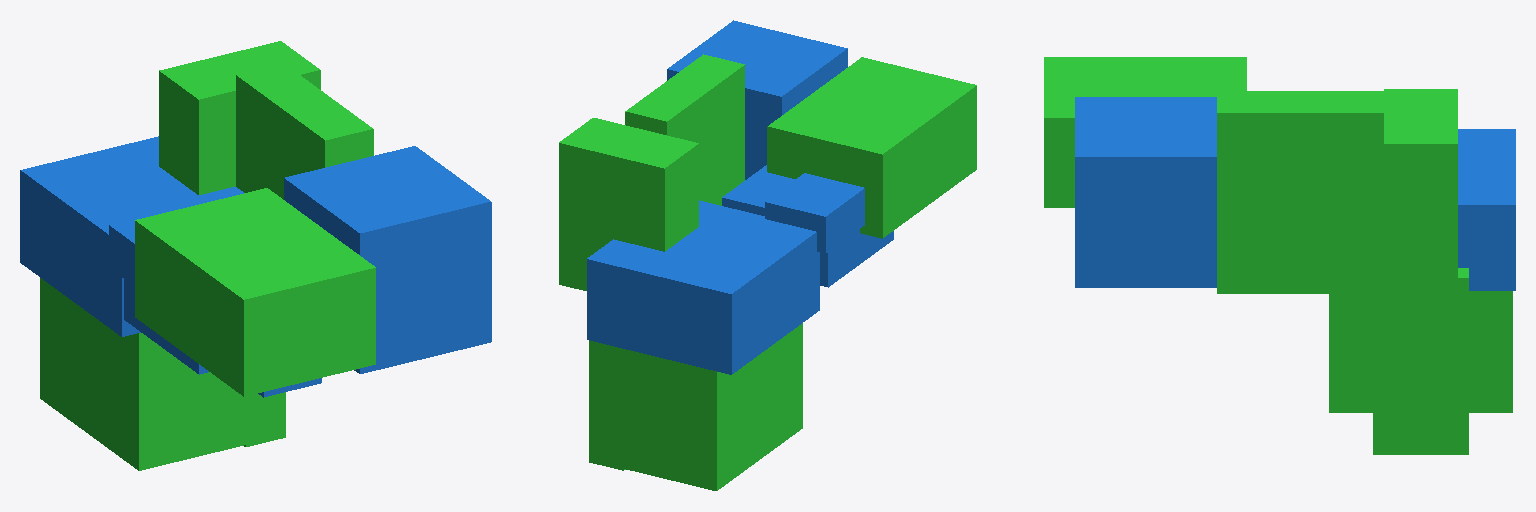
The robot description file, URDF, robot "robot":
<robot name = "robot">
    <link name="Link0">
        <inertial>
            <origin xyz="0 0 2" rpy="0 0 0"/>
            <mass value="0.6160407407778503" />
            <inertia ixx="100" ixy="0" ixz="0" iyy="100" iyz="0" izz="100" />
        </inertial>
        <visual>
            <origin xyz="0 0 2" rpy="0 0 0"/>
            <geometry>
                <box size="0.8521836538927108 1.213567087188342 0.5956792132960255" />
            </geometry>
            <material name="Sensor">
                <color rgba="0.239 0.875 0.282 1.0"/>
            </material>
        </visual>
        <collision>
            <origin xyz="0 0 2" rpy="0 0 0"/>
            <geometry>
                <box size="0.8521836538927108 1.213567087188342 0.5956792132960255" />
            </geometry>
        </collision>
    </link>
    <joint name="Link0_Link1" type="revolute">
       <parent link="Link0"/>
       <child  link="Link1"/>
       <origin rpy="0 0 0" xyz="0.4260918269463554 0 2" />
       <axis xyz="1 0 0"/>
       <limit effort="0.0" lower="-3.14159" upper="3.14159" velocity="0.0"/>
    </joint>
    <link name="Link1">
        <inertial>
            <origin xyz="0.42281254906747484 0 0" rpy="0 0 0"/>
            <mass value="0.6215092512536174" />
            <inertia ixx="100" ixy="0" ixz="0" iyy="100" iyz="0" izz="100" />
        </inertial>
        <visual>
            <origin xyz="0.42281254906747484 0 0" rpy="0 0 0"/>
            <geometry>
                <box size="0.8456250981349497 0.8489852889734197 0.8657042872039488" />
            </geometry>
            <material name="No Sensor">
                <color rgba="0.184 0.553 0.933 1.0"/>
            </material>
        </visual>
        <collision>
            <origin xyz="0.42281254906747484 0 0" rpy="0 0 0"/>
            <geometry>
                <box size="0.8456250981349497 0.8489852889734197 0.8657042872039488" />
            </geometry>
        </collision>
    </link>
    <joint name="Link1_Link2" type="revolute">
       <parent link="Link1"/>
       <child  link="Link2"/>
       <origin rpy="0 0 0" xyz="0.42281254906747484 0.42449264448670987 0.0" />
       <axis xyz="1 0 0"/>
       <limit effort="0.0" lower="-3.14159" upper="3.14159" velocity="0.0"/>
    </joint>
    <link name="Link2">
        <inertial>
            <origin xyz="0.0 0.5001585922873429 0.0" rpy="0 0 0"/>
            <mass value="0.3705765701744302" />
            <inertia ixx="100" ixy="0" ixz="0" iyy="100" iyz="0" izz="100" />
        </inertial>
        <visual>
            <origin xyz="0.0 0.5001585922873429 0.0" rpy="0 0 0"/>
            <geometry>
                <box size="0.3091772071857224 1.0003171845746859 1.1982094981876252" />
            </geometry>
            <material name="Sensor">
                <color rgba="0.239 0.875 0.282 1.0"/>
            </material>
        </visual>
        <collision>
            <origin xyz="0.0 0.5001585922873429 0.0" rpy="0 0 0"/>
            <geometry>
                <box size="0.3091772071857224 1.0003171845746859 1.1982094981876252" />
            </geometry>
        </collision>
    </link>
    <joint name="Link2_Link3" type="revolute">
       <parent link="Link2"/>
       <child  link="Link3"/>
       <origin rpy="0 0 0" xyz="0.0 1.0003171845746859 0.0" />
       <axis xyz="0 0 1"/>
       <limit effort="0.0" lower="-3.14159" upper="3.14159" velocity="0.0"/>
    </joint>
    <link name="Link3">
        <inertial>
            <origin xyz="0.0 0.2212780104775342 0.0" rpy="0 0 0"/>
            <mass value="0.3482805075028929" />
            <inertia ixx="100" ixy="0" ixz="0" iyy="100" iyz="0" izz="100" />
        </inertial>
        <visual>
            <origin xyz="0.0 0.2212780104775342 0.0" rpy="0 0 0"/>
            <geometry>
                <box size="0.7846790571795887 0.4425560209550684 1.0029259149799423" />
            </geometry>
            <material name="Sensor">
                <color rgba="0.239 0.875 0.282 1.0"/>
            </material>
        </visual>
        <collision>
            <origin xyz="0.0 0.2212780104775342 0.0" rpy="0 0 0"/>
            <geometry>
                <box size="0.7846790571795887 0.4425560209550684 1.0029259149799423" />
            </geometry>
        </collision>
    </link>
    <joint name="Link3_Link4" type="revolute">
       <parent link="Link3"/>
       <child  link="Link4"/>
       <origin rpy="0 0 0" xyz="0.0 0.2212780104775342 -0.5014629574899712" />
       <axis xyz="0 0 1"/>
       <limit effort="0.0" lower="-3.14159" upper="3.14159" velocity="0.0"/>
    </joint>
    <link name="Link4">
        <inertial>
            <origin xyz="0.0 0.0 -0.5838031738221966" rpy="0 0 0"/>
            <mass value="0.1737354630515266" />
            <inertia ixx="100" ixy="0" ixz="0" iyy="100" iyz="0" izz="100" />
        </inertial>
        <visual>
            <origin xyz="0.0 0.0 -0.5838031738221966" rpy="0 0 0"/>
            <geometry>
                <box size="0.2573189693278638 0.5782561036507808 1.1676063476443932" />
            </geometry>
            <material name="Sensor">
                <color rgba="0.239 0.875 0.282 1.0"/>
            </material>
        </visual>
        <collision>
            <origin xyz="0.0 0.0 -0.5838031738221966" rpy="0 0 0"/>
            <geometry>
                <box size="0.2573189693278638 0.5782561036507808 1.1676063476443932" />
            </geometry>
        </collision>
    </link>
    <joint name="Link4_Link5" type="revolute">
       <parent link="Link4"/>
       <child  link="Link5"/>
       <origin rpy="0 0 0" xyz="-0.1286594846639319 0.0 -0.5838031738221966" />
       <axis xyz="0 1 0"/>
       <limit effort="0.0" lower="-3.14159" upper="3.14159" velocity="0.0"/>
    </joint>
    <link name="Link5">
        <inertial>
            <origin xyz="-0.4191836664469384 0.0 0.0" rpy="0 0 0"/>
            <mass value="0.7919010315348493" />
            <inertia ixx="100" ixy="0" ixz="0" iyy="100" iyz="0" izz="100" />
        </inertial>
        <visual>
            <origin xyz="-0.4191836664469384 0.0 0.0" rpy="0 0 0"/>
            <geometry>
                <box size="0.8383673328938768 1.1051902839041352 0.8546720523491877" />
            </geometry>
            <material name="Sensor">
                <color rgba="0.239 0.875 0.282 1.0"/>
            </material>
        </visual>
        <collision>
            <origin xyz="-0.4191836664469384 0.0 0.0" rpy="0 0 0"/>
            <geometry>
                <box size="0.8383673328938768 1.1051902839041352 0.8546720523491877" />
            </geometry>
        </collision>
    </link>
    <joint name="Link5_Link6" type="revolute">
       <parent link="Link5"/>
       <child  link="Link6"/>
       <origin rpy="0 0 0" xyz="-0.4191836664469384 0.0 0.4273360261745939" />
       <axis xyz="0 0 1"/>
       <limit effort="0.0" lower="-3.14159" upper="3.14159" velocity="0.0"/>
    </joint>
    <link name="Link6">
        <inertial>
            <origin xyz="0.0 0.0 0.2854931872622266" rpy="0 0 0"/>
            <mass value="0.691726782634707" />
            <inertia ixx="100" ixy="0" ixz="0" iyy="100" iyz="0" izz="100" />
        </inertial>
        <visual>
            <origin xyz="0.0 0.0 0.2854931872622266" rpy="0 0 0"/>
            <geometry>
                <box size="1.072578152523871 1.1294835234293168 0.5709863745244532" />
            </geometry>
            <material name="No Sensor">
                <color rgba="0.184 0.553 0.933 1.0"/>
            </material>
        </visual>
        <collision>
            <origin xyz="0.0 0.0 0.2854931872622266" rpy="0 0 0"/>
            <geometry>
                <box size="1.072578152523871 1.1294835234293168 0.5709863745244532" />
            </geometry>
        </collision>
    </link>
    <joint name="Link6_Link7" type="revolute">
       <parent link="Link6"/>
       <child  link="Link7"/>
       <origin rpy="0 0 0" xyz="0.0 -0.5647417617146584 0.2854931872622266" />
       <axis xyz="0 1 0"/>
       <limit effort="0.0" lower="-3.14159" upper="3.14159" velocity="0.0"/>
    </joint>
    <link name="Link7">
        <inertial>
            <origin xyz="0.0 -0.4856516720932854 0.0" rpy="0 0 0"/>
            <mass value="0.2500797625929406" />
            <inertia ixx="100" ixy="0" ixz="0" iyy="100" iyz="0" izz="100" />
        </inertial>
        <visual>
            <origin xyz="0.0 -0.4856516720932854 0.0" rpy="0 0 0"/>
            <geometry>
                <box size="0.3729547715521785 0.9713033441865708 0.6903470868312382" />
            </geometry>
            <material name="No Sensor">
                <color rgba="0.184 0.553 0.933 1.0"/>
            </material>
        </visual>
        <collision>
            <origin xyz="0.0 -0.4856516720932854 0.0" rpy="0 0 0"/>
            <geometry>
                <box size="0.3729547715521785 0.9713033441865708 0.6903470868312382" />
            </geometry>
        </collision>
    </link>
    <joint name="Link7_Link8" type="revolute">
       <parent link="Link7"/>
       <child  link="Link8"/>
       <origin rpy="0 0 0" xyz="-0.18647738577608924 -0.4856516720932854 0.0" />
       <axis xyz="0 1 0"/>
       <limit effort="0.0" lower="-3.14159" upper="3.14159" velocity="0.0"/>
    </joint>
    <link name="Link8">
        <inertial>
            <origin xyz="-0.1883678545710043 0.0 0.0" rpy="0 0 0"/>
            <mass value="0.09050959963389009" />
            <inertia ixx="100" ixy="0" ixz="0" iyy="100" iyz="0" izz="100" />
        </inertial>
        <visual>
            <origin xyz="-0.1883678545710043 0.0 0.0" rpy="0 0 0"/>
            <geometry>
                <box size="0.3767357091420086 0.8398236481098892 0.2860683145698599" />
            </geometry>
            <material name="No Sensor">
                <color rgba="0.184 0.553 0.933 1.0"/>
            </material>
        </visual>
        <collision>
            <origin xyz="-0.1883678545710043 0.0 0.0" rpy="0 0 0"/>
            <geometry>
                <box size="0.3767357091420086 0.8398236481098892 0.2860683145698599" />
            </geometry>
        </collision>
    </link>
    <joint name="Link8_Link9" type="revolute">
       <parent link="Link8"/>
       <child  link="Link9"/>
       <origin rpy="0 0 0" xyz="-0.1883678545710043 0.0 0.14303415728492996" />
       <axis xyz="1 0 0"/>
       <limit effort="0.0" lower="-3.14159" upper="3.14159" velocity="0.0"/>
    </joint>
    <link name="Link9">
        <inertial>
            <origin xyz="0.0 0.0 0.13104838000767893" rpy="0 0 0"/>
            <mass value="0.12251048029772495" />
            <inertia ixx="100" ixy="0" ixz="0" iyy="100" iyz="0" izz="100" />
        </inertial>
        <visual>
            <origin xyz="0.0 0.0 0.13104838000767893" rpy="0 0 0"/>
            <geometry>
                <box size="0.45018211641098693 1.038301189667969 0.26209676001535787" />
            </geometry>
            <material name="No Sensor">
                <color rgba="0.184 0.553 0.933 1.0"/>
            </material>
        </visual>
        <collision>
            <origin xyz="0.0 0.0 0.13104838000767893" rpy="0 0 0"/>
            <geometry>
                <box size="0.45018211641098693 1.038301189667969 0.26209676001535787" />
            </geometry>
        </collision>
    </link>
</robot>

--- Facts derived from the render (not from the file) ---
Views: 3 orthographic renders of the robot side by side, from view 1: azimuth 30°, elevation 25°; view 2: azimuth 150°, elevation 25°; view 3: azimuth 270°, elevation 25°.
Robot: robot — 10 links, 9 joints (9 revolute); root link Link0; default pose: every joint at zero.
Visible links, largest first — view 1: Link0, Link1, Link5, Link6, Link2, Link3, Link9, Link8, Link4; view 2: Link6, Link0, Link5, Link3, Link2, Link1, Link9, Link8, Link4, Link7; view 3: Link2, Link1, Link4, Link3, Link0, Link5, Link6.
Boxes of the visible links, <box> form: Link0: <box>135,188,375,396</box>; Link1: <box>284,146,491,373</box>; Link5: <box>40,278,268,470</box>; Link6: <box>20,136,243,336</box>; Link2: <box>236,63,373,199</box>; Link3: <box>159,41,320,194</box>; Link9: <box>109,208,179,285</box>; Link8: <box>124,279,208,374</box>; Link4: <box>244,392,285,446</box>; Link6: <box>587,200,819,374</box>; Link0: <box>767,57,976,238</box>; Link5: <box>603,323,802,490</box>; Link3: <box>559,118,698,290</box>; Link2: <box>625,54,744,205</box>; Link1: <box>667,20,847,179</box>; Link9: <box>765,173,864,253</box>; Link8: <box>820,229,893,287</box>; Link4: <box>589,340,625,470</box>; Link7: <box>722,165,795,215</box>; Link2: <box>1217,91,1383,293</box>; Link1: <box>1075,97,1216,287</box>; Link4: <box>1373,268,1468,454</box>; Link3: <box>1384,89,1457,295</box>; Link0: <box>1044,57,1246,207</box>; Link5: <box>1329,291,1512,412</box>; Link6: <box>1458,129,1515,290</box>.
Size in the robot's own frame: 1.7 by 2.82 by 2.27 metres.
Geometry: primitives only (box / cylinder / sphere), no mesh files.